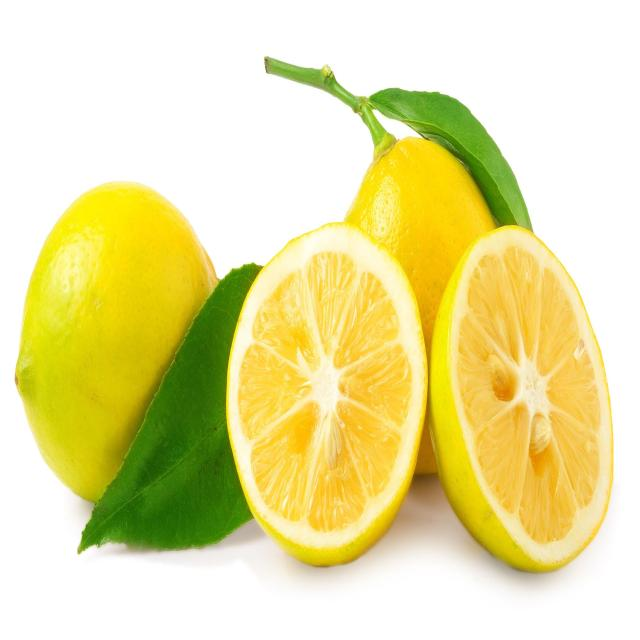lemon: (218, 210, 432, 572)
